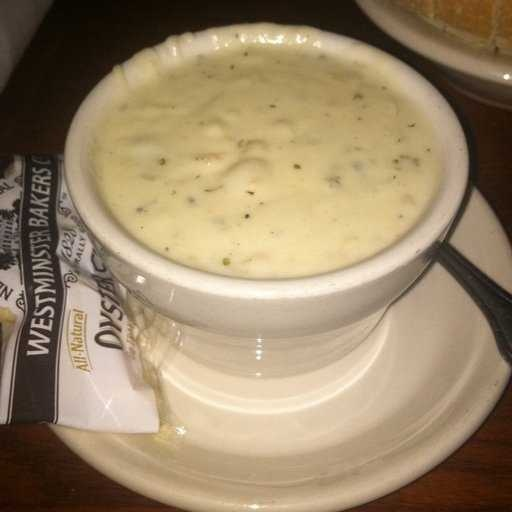soup: (66, 35, 436, 286)
